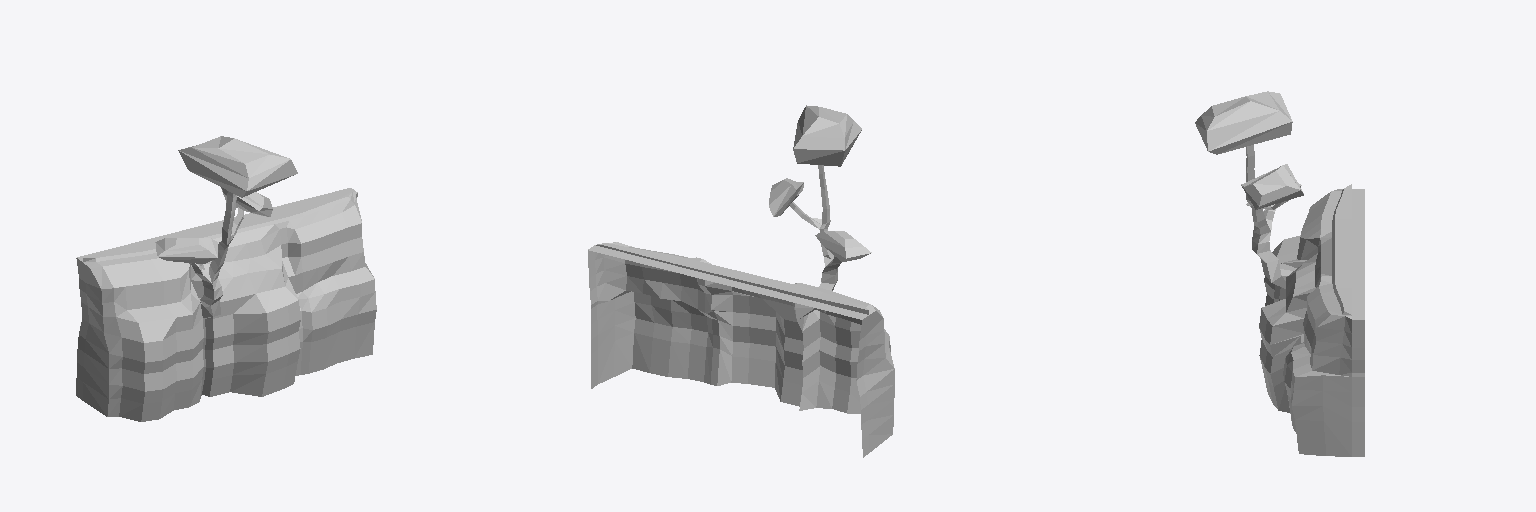
The model's file is cliff.obj.
The picture shows the model from 3 angles: view 1: azimuth 30°, elevation 25°; view 2: azimuth 150°, elevation 25°; view 3: azimuth 270°, elevation 25°; orthographic projection.
Parts seen in each view (by area): view 1: cliff_tree:pCylinder2; view 2: cliff_tree:pCylinder2; view 3: cliff_tree:pCylinder2.
Boxes of the visible parts, x1=… form: cliff_tree:pCylinder2: x1=76, y1=136, x2=376, y2=421; cliff_tree:pCylinder2: x1=588, y1=105, x2=894, y2=457; cliff_tree:pCylinder2: x1=1195, y1=91, x2=1364, y2=456.
Bounding box in the file's own units: 18.73 × 17.85 × 10.06.